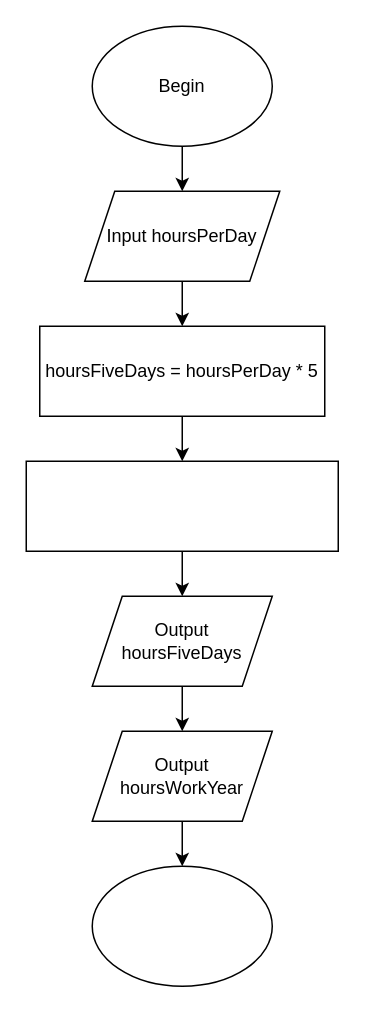
Some shapes in this 365 by 1013 pixel diagram are drawn without their labels. Each missing label, with the centre of its shape:
"hoursWorkYear = hoursPerDay * 252" belongs at [181,505].
"Stop" belongs at [181,925].
